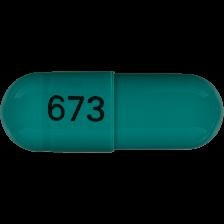47335-673: (0, 0, 224, 224)
